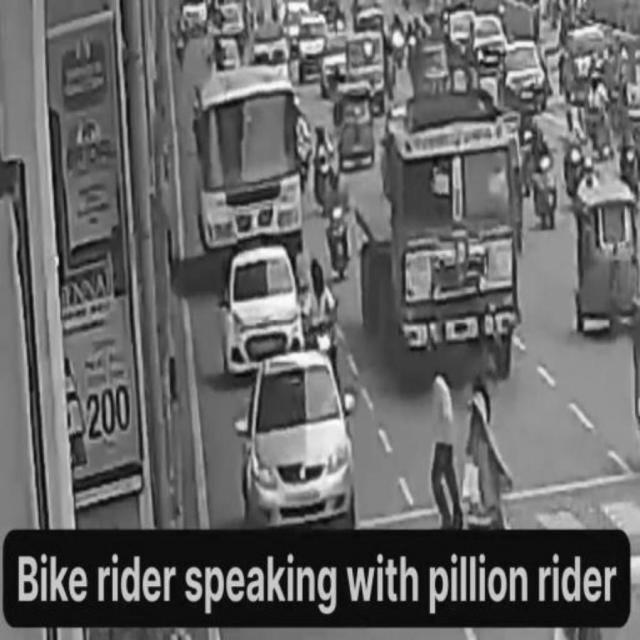person: (468, 363, 513, 529), (427, 352, 465, 532)
vehicle: (373, 108, 517, 376), (243, 349, 361, 524), (194, 79, 302, 259), (571, 185, 639, 333), (227, 248, 304, 368), (305, 251, 347, 369), (314, 123, 336, 219)
